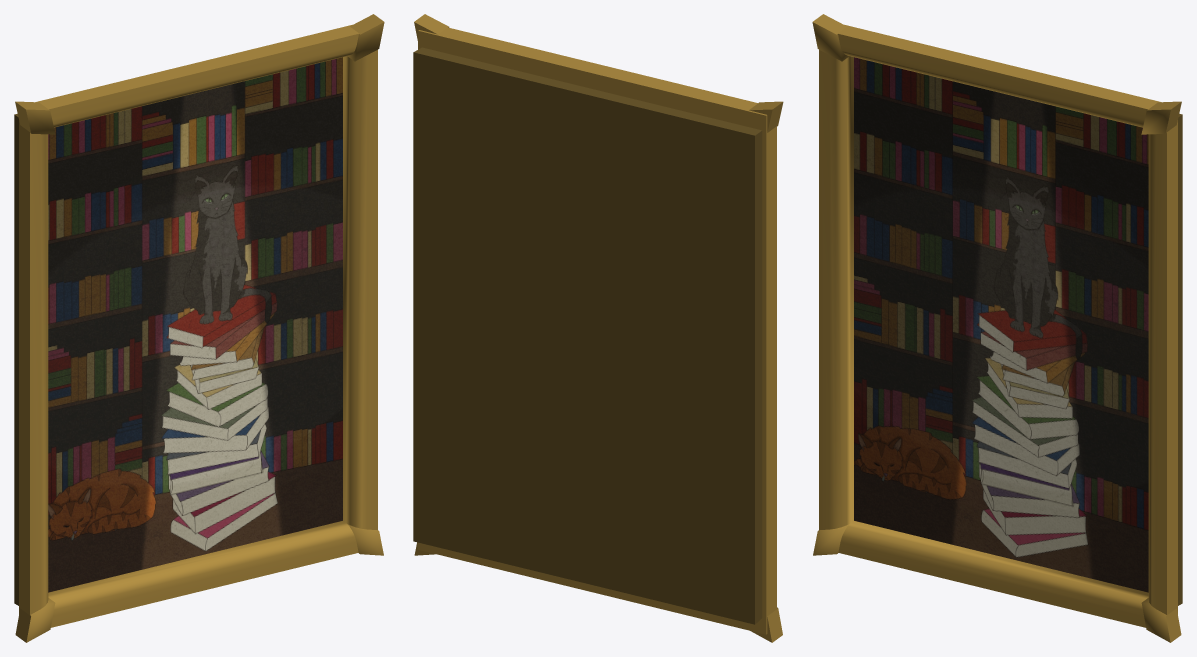
File: Painting cat.fbx
3 renders of one model, left to right at view 1: azimuth 30°, elevation 25°; view 2: azimuth 150°, elevation 25°; view 3: azimuth 330°, elevation 25°, orthographic.
Parts seen in each view (by area): view 1: Plane; view 2: Plane; view 3: Plane.
Part boxes in pixels (<box>): Plane: <box>14,14,384,642</box>; Plane: <box>413,14,783,642</box>; Plane: <box>812,14,1182,642</box>.
Size of the model in its own units: 0.823 by 1.17 by 0.0794.
